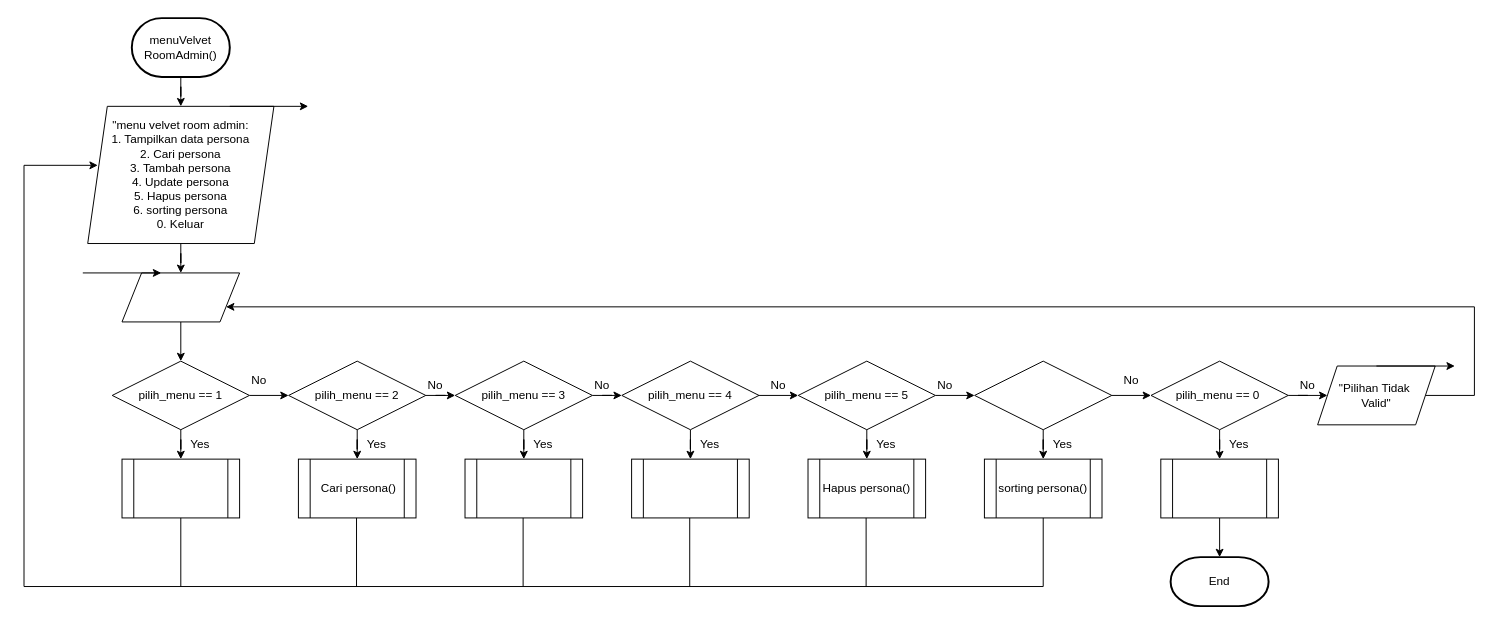
Some shapes in this 1499 by 623 pixel diagram are drawn without their labels. Each missing label, with the box of its shape:
Input pilih_menu: (121, 272, 240, 322)
Keluar(): (1160, 458, 1278, 518)
pilih_menu == 6: (974, 360, 1112, 430)
Tambah persona(): (464, 458, 583, 518)
Tampilkan data persona(): (121, 458, 240, 518)
Update persona(): (631, 458, 749, 518)
